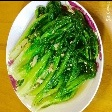youmaicai: (6, 3, 98, 110)
